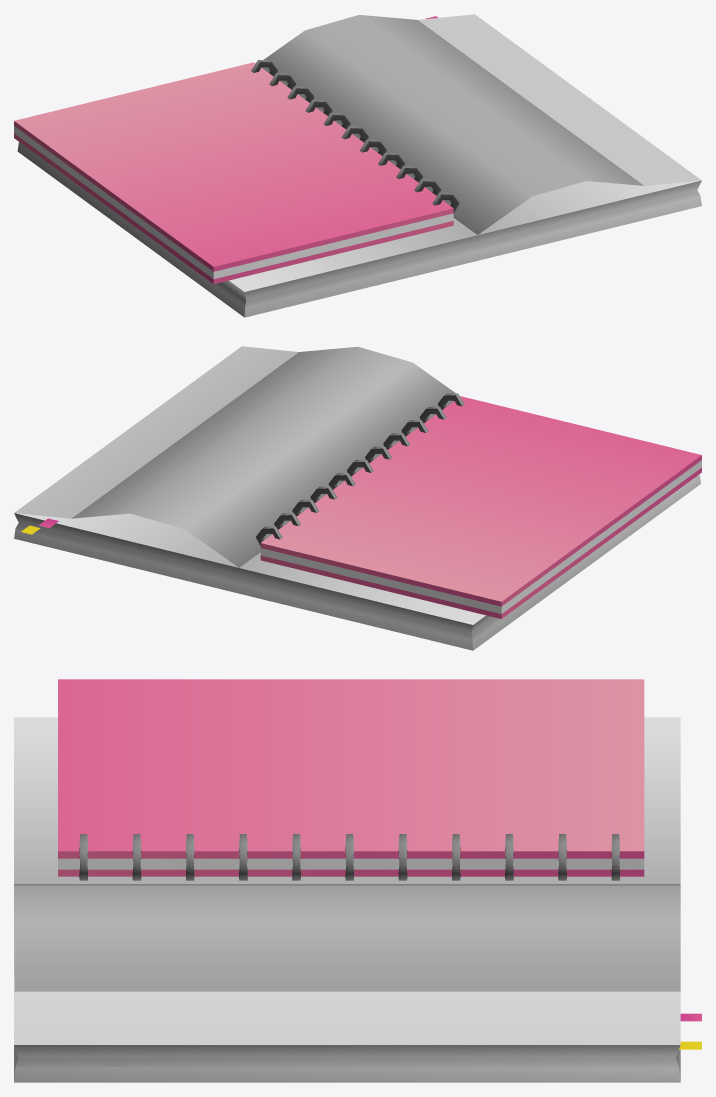
The model's file is CR_Notebook_001.FBX.
The picture shows the model from 3 angles, top to bottom: view 1: azimuth 30°, elevation 25°; view 2: azimuth 150°, elevation 25°; view 3: azimuth 270°, elevation 25°; orthographic projection. The views are drawn at different scales.
Parts seen in each view (by area): view 1: CR_Notebook_001; view 2: CR_Notebook_001; view 3: CR_Notebook_001.
Part boxes in pixels (x1=…): CR_Notebook_001: x1=14, y1=14, x2=701, y2=317; CR_Notebook_001: x1=14, y1=346, x2=701, y2=650; CR_Notebook_001: x1=14, y1=679, x2=701, y2=1082.
Size of the model in its own units: 26.19 by 2.82 by 22.46.
1 material, 1 textured.
